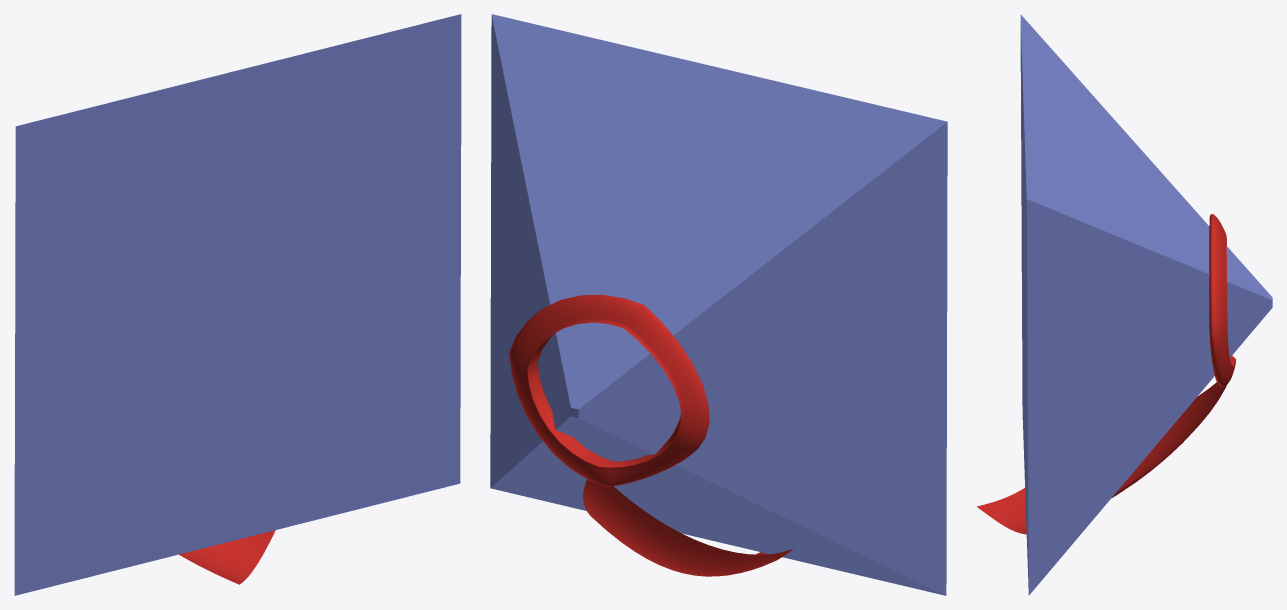
The picture shows the model from 3 angles, left to right: view 1: azimuth 30°, elevation 25°; view 2: azimuth 150°, elevation 25°; view 3: azimuth 270°, elevation 25°; orthographic projection. The views are drawn at different scales.
Parts seen in each view (by area): view 1: Cube, SurfPatch.001, SurfPatch.002; view 2: Cube, SurfPatch, SurfPatch.001, SurfPatch.002; view 3: Cube, SurfPatch.001, SurfPatch, SurfPatch.002.
Part boxes in pixels (x1,y1,x2,y2): Cube: [14, 14, 461, 595]; SurfPatch.001: [179, 530, 275, 584]; SurfPatch.002: [180, 531, 274, 583]; Cube: [490, 14, 947, 595]; SurfPatch: [509, 294, 709, 487]; SurfPatch.001: [583, 479, 792, 576]; SurfPatch.002: [583, 480, 792, 576]; Cube: [1020, 14, 1272, 595]; SurfPatch.001: [977, 382, 1226, 534]; SurfPatch: [1209, 214, 1236, 387]; SurfPatch.002: [978, 384, 1225, 533].
Size of the model in its own units: 2 by 2.12 by 1.35.
